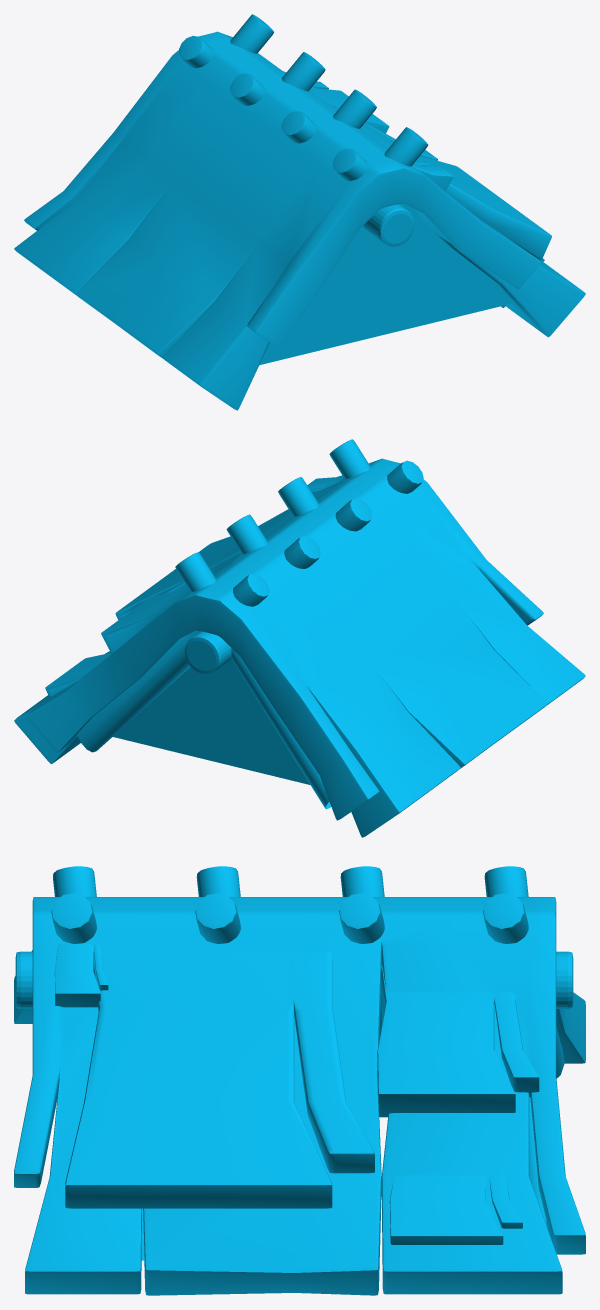
The model's file is SM_Clay_Roof_04.fbx.
3 views of the same model, one above another, from view 1: azimuth 30°, elevation 25°; view 2: azimuth 150°, elevation 25°; view 3: azimuth 270°, elevation 25° (orthographic). The views are drawn at different scales.
Parts seen in each view (by area): view 1: SM_Clay_Roof_04; view 2: SM_Clay_Roof_04; view 3: SM_Clay_Roof_04.
Part boxes in pixels (x1,y1,x2,y2): SM_Clay_Roof_04: (14, 14, 585, 410); SM_Clay_Roof_04: (14, 439, 585, 837); SM_Clay_Roof_04: (14, 866, 585, 1295).
Size of the model in its own units: 1.14 by 0.6432 by 1.04.
